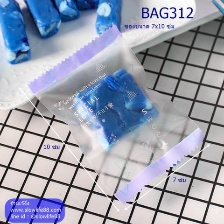snack: (20, 18, 209, 211)
